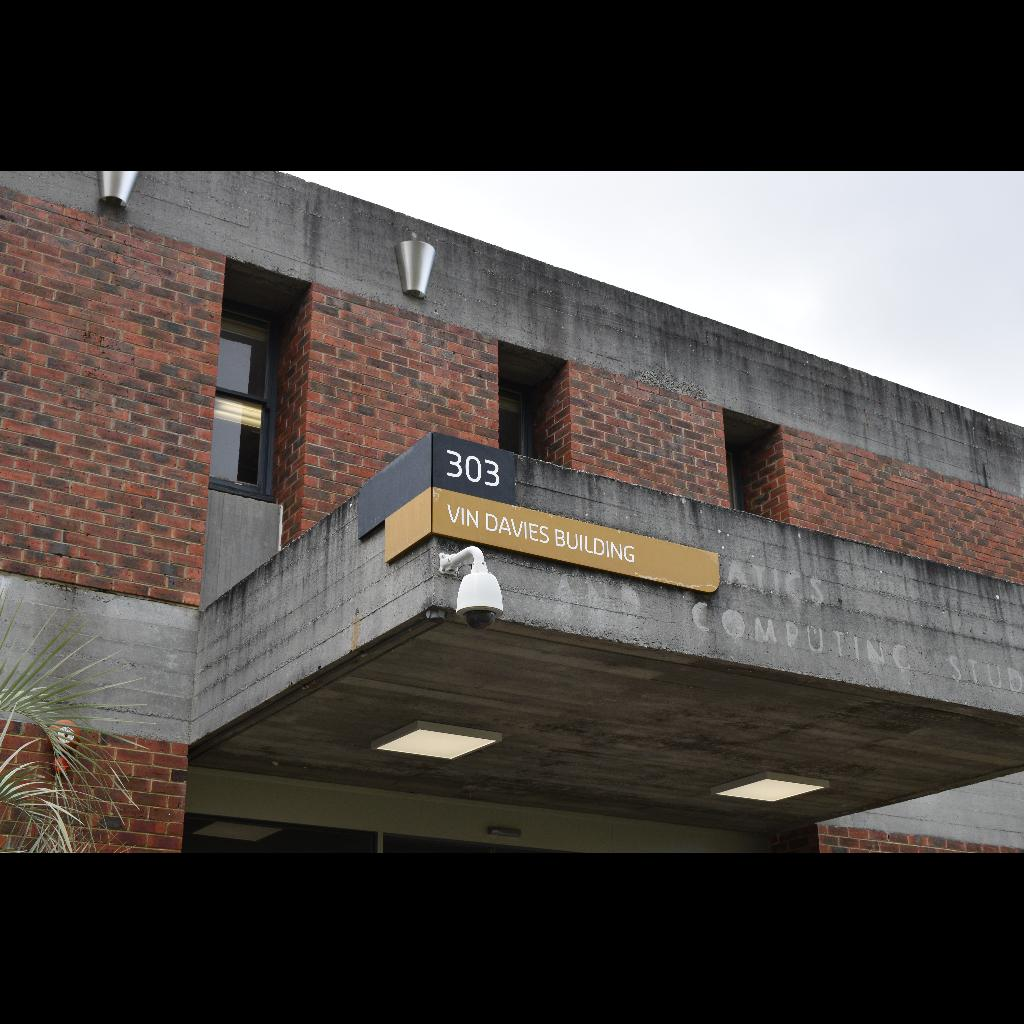BuildingCodes: (444, 446, 502, 492)
